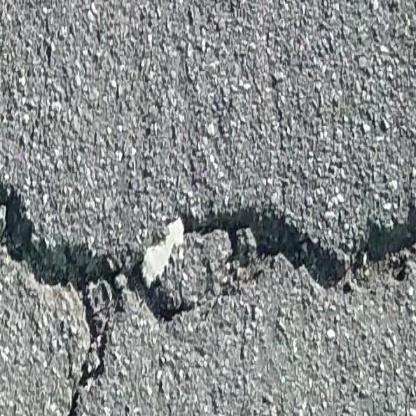Cracks: (0, 153, 416, 335), (6, 230, 226, 416)
